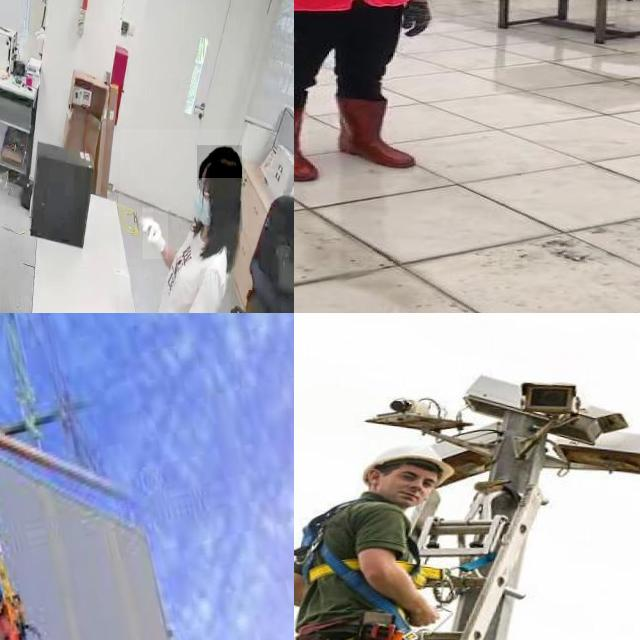Harness: (294, 500, 398, 616)
boots: (332, 95, 414, 171), (294, 97, 321, 183)
face_mask: (188, 177, 217, 238)
hand_glove: (142, 207, 168, 259), (409, 2, 436, 43)
head_nohelmet: (197, 145, 243, 179)
person: (294, 0, 438, 183), (119, 129, 248, 313)
